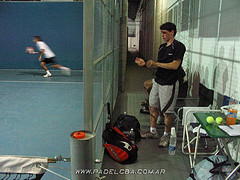tennis ball: (205, 115, 214, 124), (215, 116, 222, 124)
